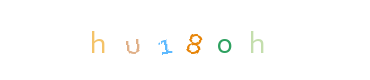0: (184, 0, 264, 80)
1: (145, 0, 225, 80)
8: (154, 0, 234, 80)
H: (87, 0, 167, 80), (194, 0, 274, 80)
U: (125, 0, 205, 80)
